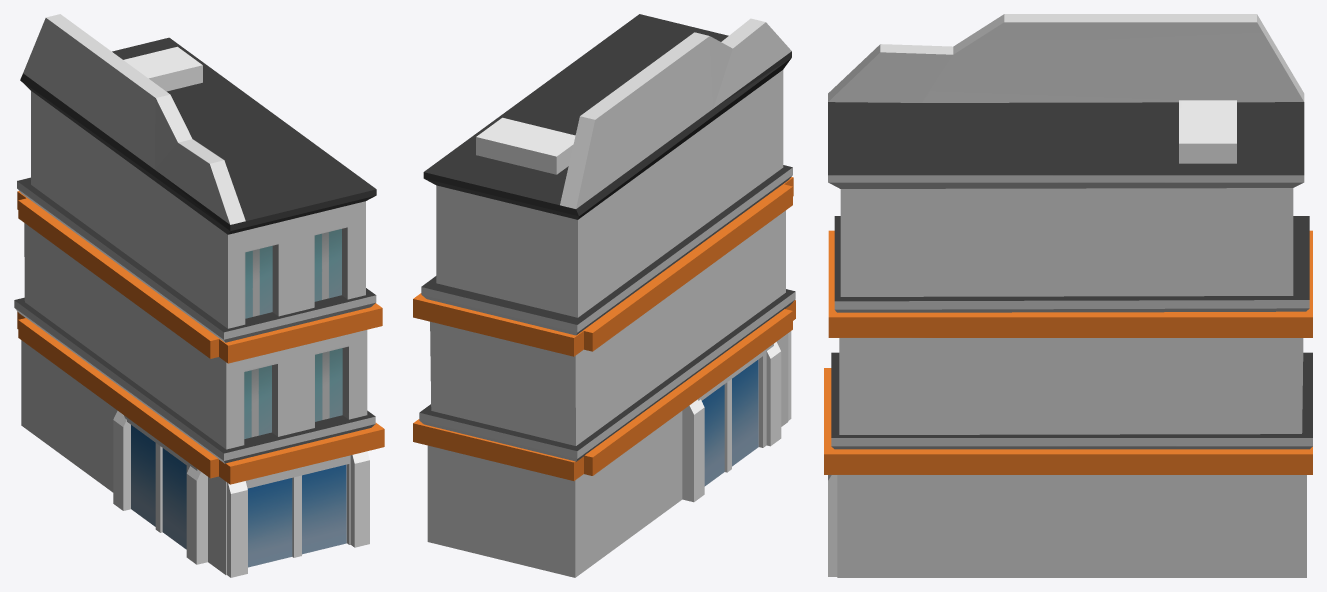
The model's file is French House 1.fbx.
3 renders of one model, left to right at view 1: azimuth 30°, elevation 25°; view 2: azimuth 150°, elevation 25°; view 3: azimuth 270°, elevation 25°, orthographic. The views are drawn at different scales.
Parts seen in each view (by area): view 1: French House 1; view 2: French House 1; view 3: French House 1.
Boxes of the visible parts, left/top/right/bottom form: French House 1: left=14, top=14, right=384, bottom=577; French House 1: left=413, top=14, right=795, bottom=577; French House 1: left=824, top=14, right=1312, bottom=577.
Size of the model in its own units: 1.56 by 3.83 by 3.5.
